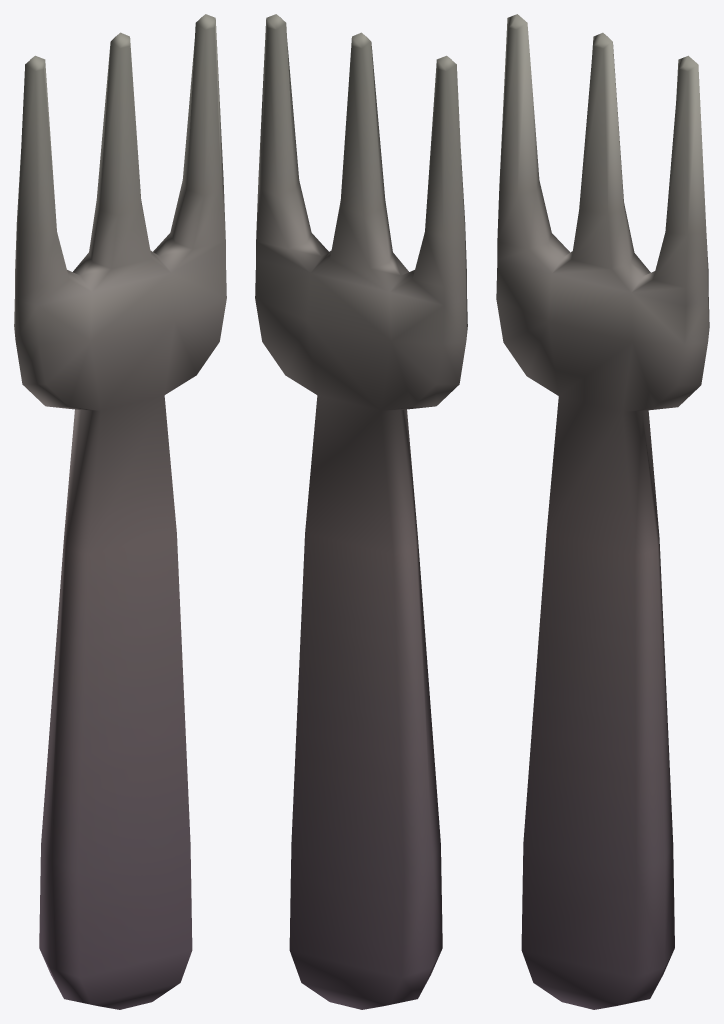
The model's file is Fork_01.glb.
3 views of the same model, side by side, from view 1: azimuth 30°, elevation 25°; view 2: azimuth 150°, elevation 25°; view 3: azimuth 330°, elevation 25° (orthographic).
Visible parts, largest first — view 1: Fork_01; view 2: Fork_01; view 3: Fork_01.
Part boxes in pixels (x1,y1,x2,y2): Fork_01: [14, 14, 226, 1009]; Fork_01: [255, 14, 467, 1009]; Fork_01: [496, 14, 709, 1009].
Bounding box in the file's own units: 0.1095 × 0.4829 × 0.0367.
Materials: 1 (1 with a texture image).
